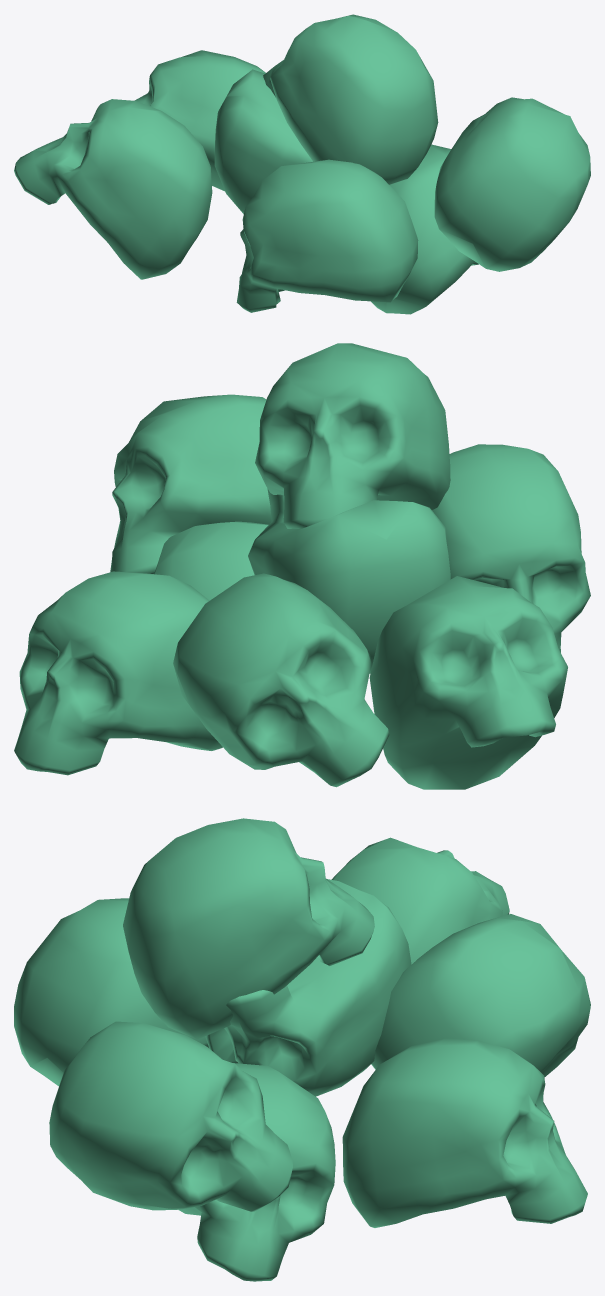
File: Bones_Barrel_02_Lod1.fbx
The picture shows the model from 3 angles, top to bottom: view 1: azimuth 30°, elevation 25°; view 2: azimuth 150°, elevation 25°; view 3: azimuth 270°, elevation 25°; orthographic projection. The views are drawn at different scales.
Visible parts, largest first — view 1: Bones_Barrel_02_Lod1; view 2: Bones_Barrel_02_Lod1; view 3: Bones_Barrel_02_Lod1.
Part boxes in pixels (x1,y1,x2,y2): Bones_Barrel_02_Lod1: (14, 14, 590, 314); Bones_Barrel_02_Lod1: (14, 343, 590, 789); Bones_Barrel_02_Lod1: (14, 818, 590, 1281).
Size of the model in its own units: 51.7 by 32.52 by 45.64.
